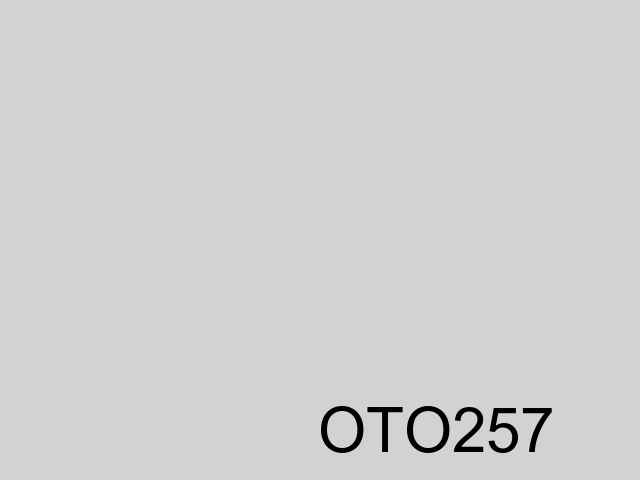OCR_AREA: (314, 402, 558, 457)
